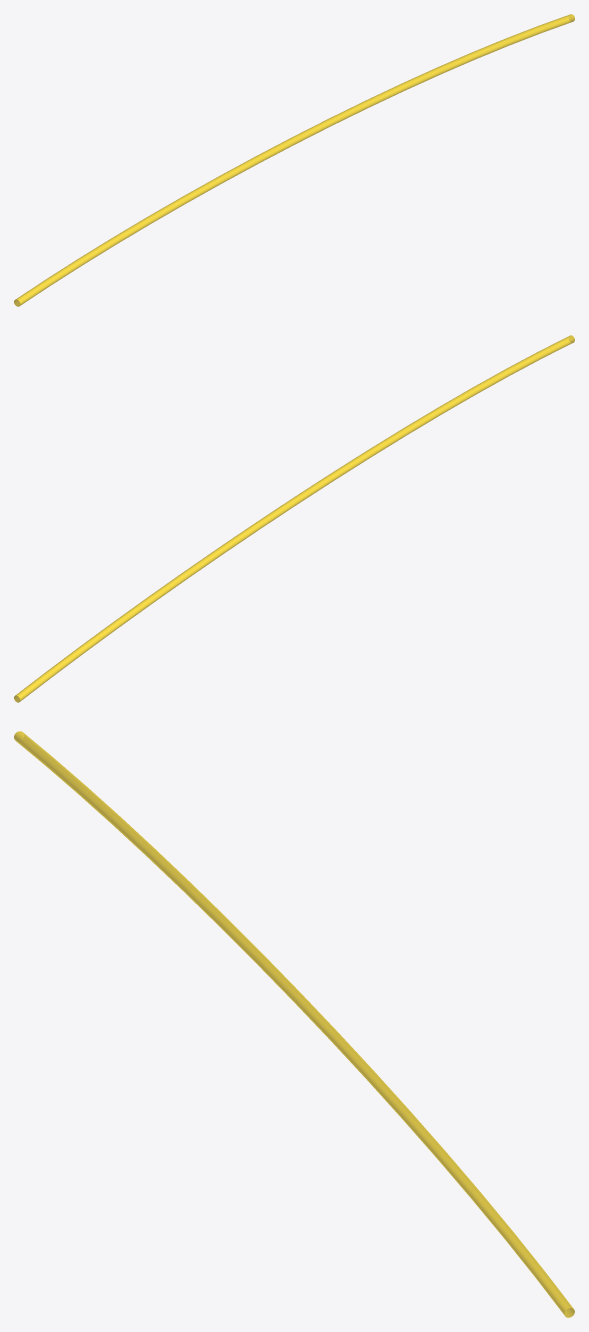
Rendered from Event_27938768_track_88.fbx.
3 renders of one model, top to bottom at view 1: azimuth 30°, elevation 25°; view 2: azimuth 210°, elevation 25°; view 3: azimuth 270°, elevation 25°, orthographic. The views are drawn at different scales.
Parts seen in each view (by area): view 1: Model; view 2: Model; view 3: Model.
Part boxes in pixels (bbox=[...]): Model: bbox=[14, 14, 574, 306]; Model: bbox=[14, 335, 574, 702]; Model: bbox=[14, 731, 574, 1317].
Size of the model in its own units: 4.36 by 0.2778 by 1.97.
